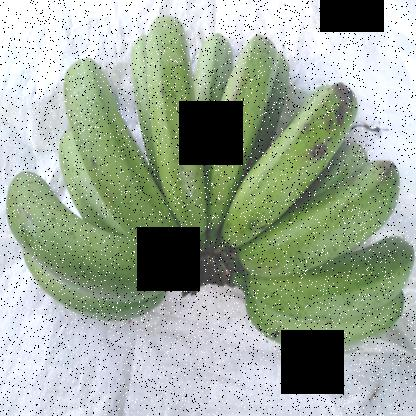unripe: (227, 76, 366, 255), (239, 152, 415, 288), (0, 180, 168, 312), (56, 64, 170, 252), (138, 11, 214, 248), (198, 25, 282, 223), (257, 240, 415, 315)
